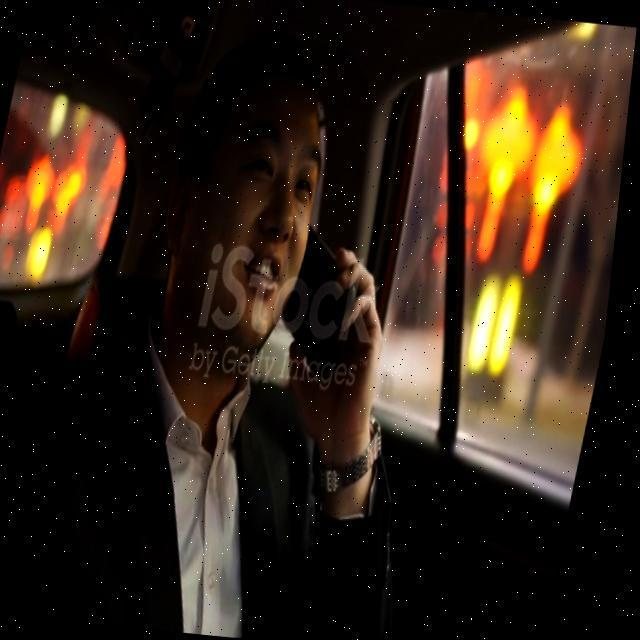PhoneCall: (275, 221, 375, 387)
